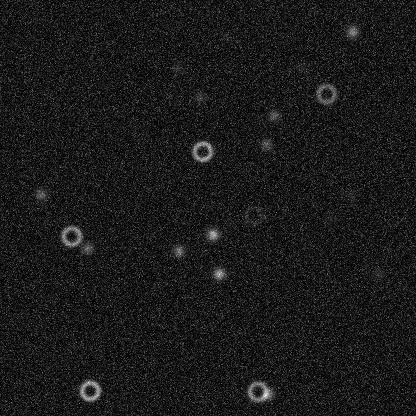Ring: (59, 224, 83, 248), (190, 139, 214, 163), (241, 203, 265, 227), (245, 379, 269, 403), (77, 378, 101, 402), (314, 81, 338, 105)
Spot: (260, 386, 276, 402), (169, 60, 185, 76), (370, 265, 386, 281), (258, 136, 274, 152), (344, 23, 360, 39), (79, 239, 95, 255), (170, 242, 186, 258), (204, 226, 220, 242), (293, 58, 309, 74), (341, 187, 357, 203), (33, 186, 49, 202), (265, 107, 281, 123), (192, 88, 208, 104), (320, 212, 336, 228), (210, 265, 226, 281), (218, 28, 234, 44)
